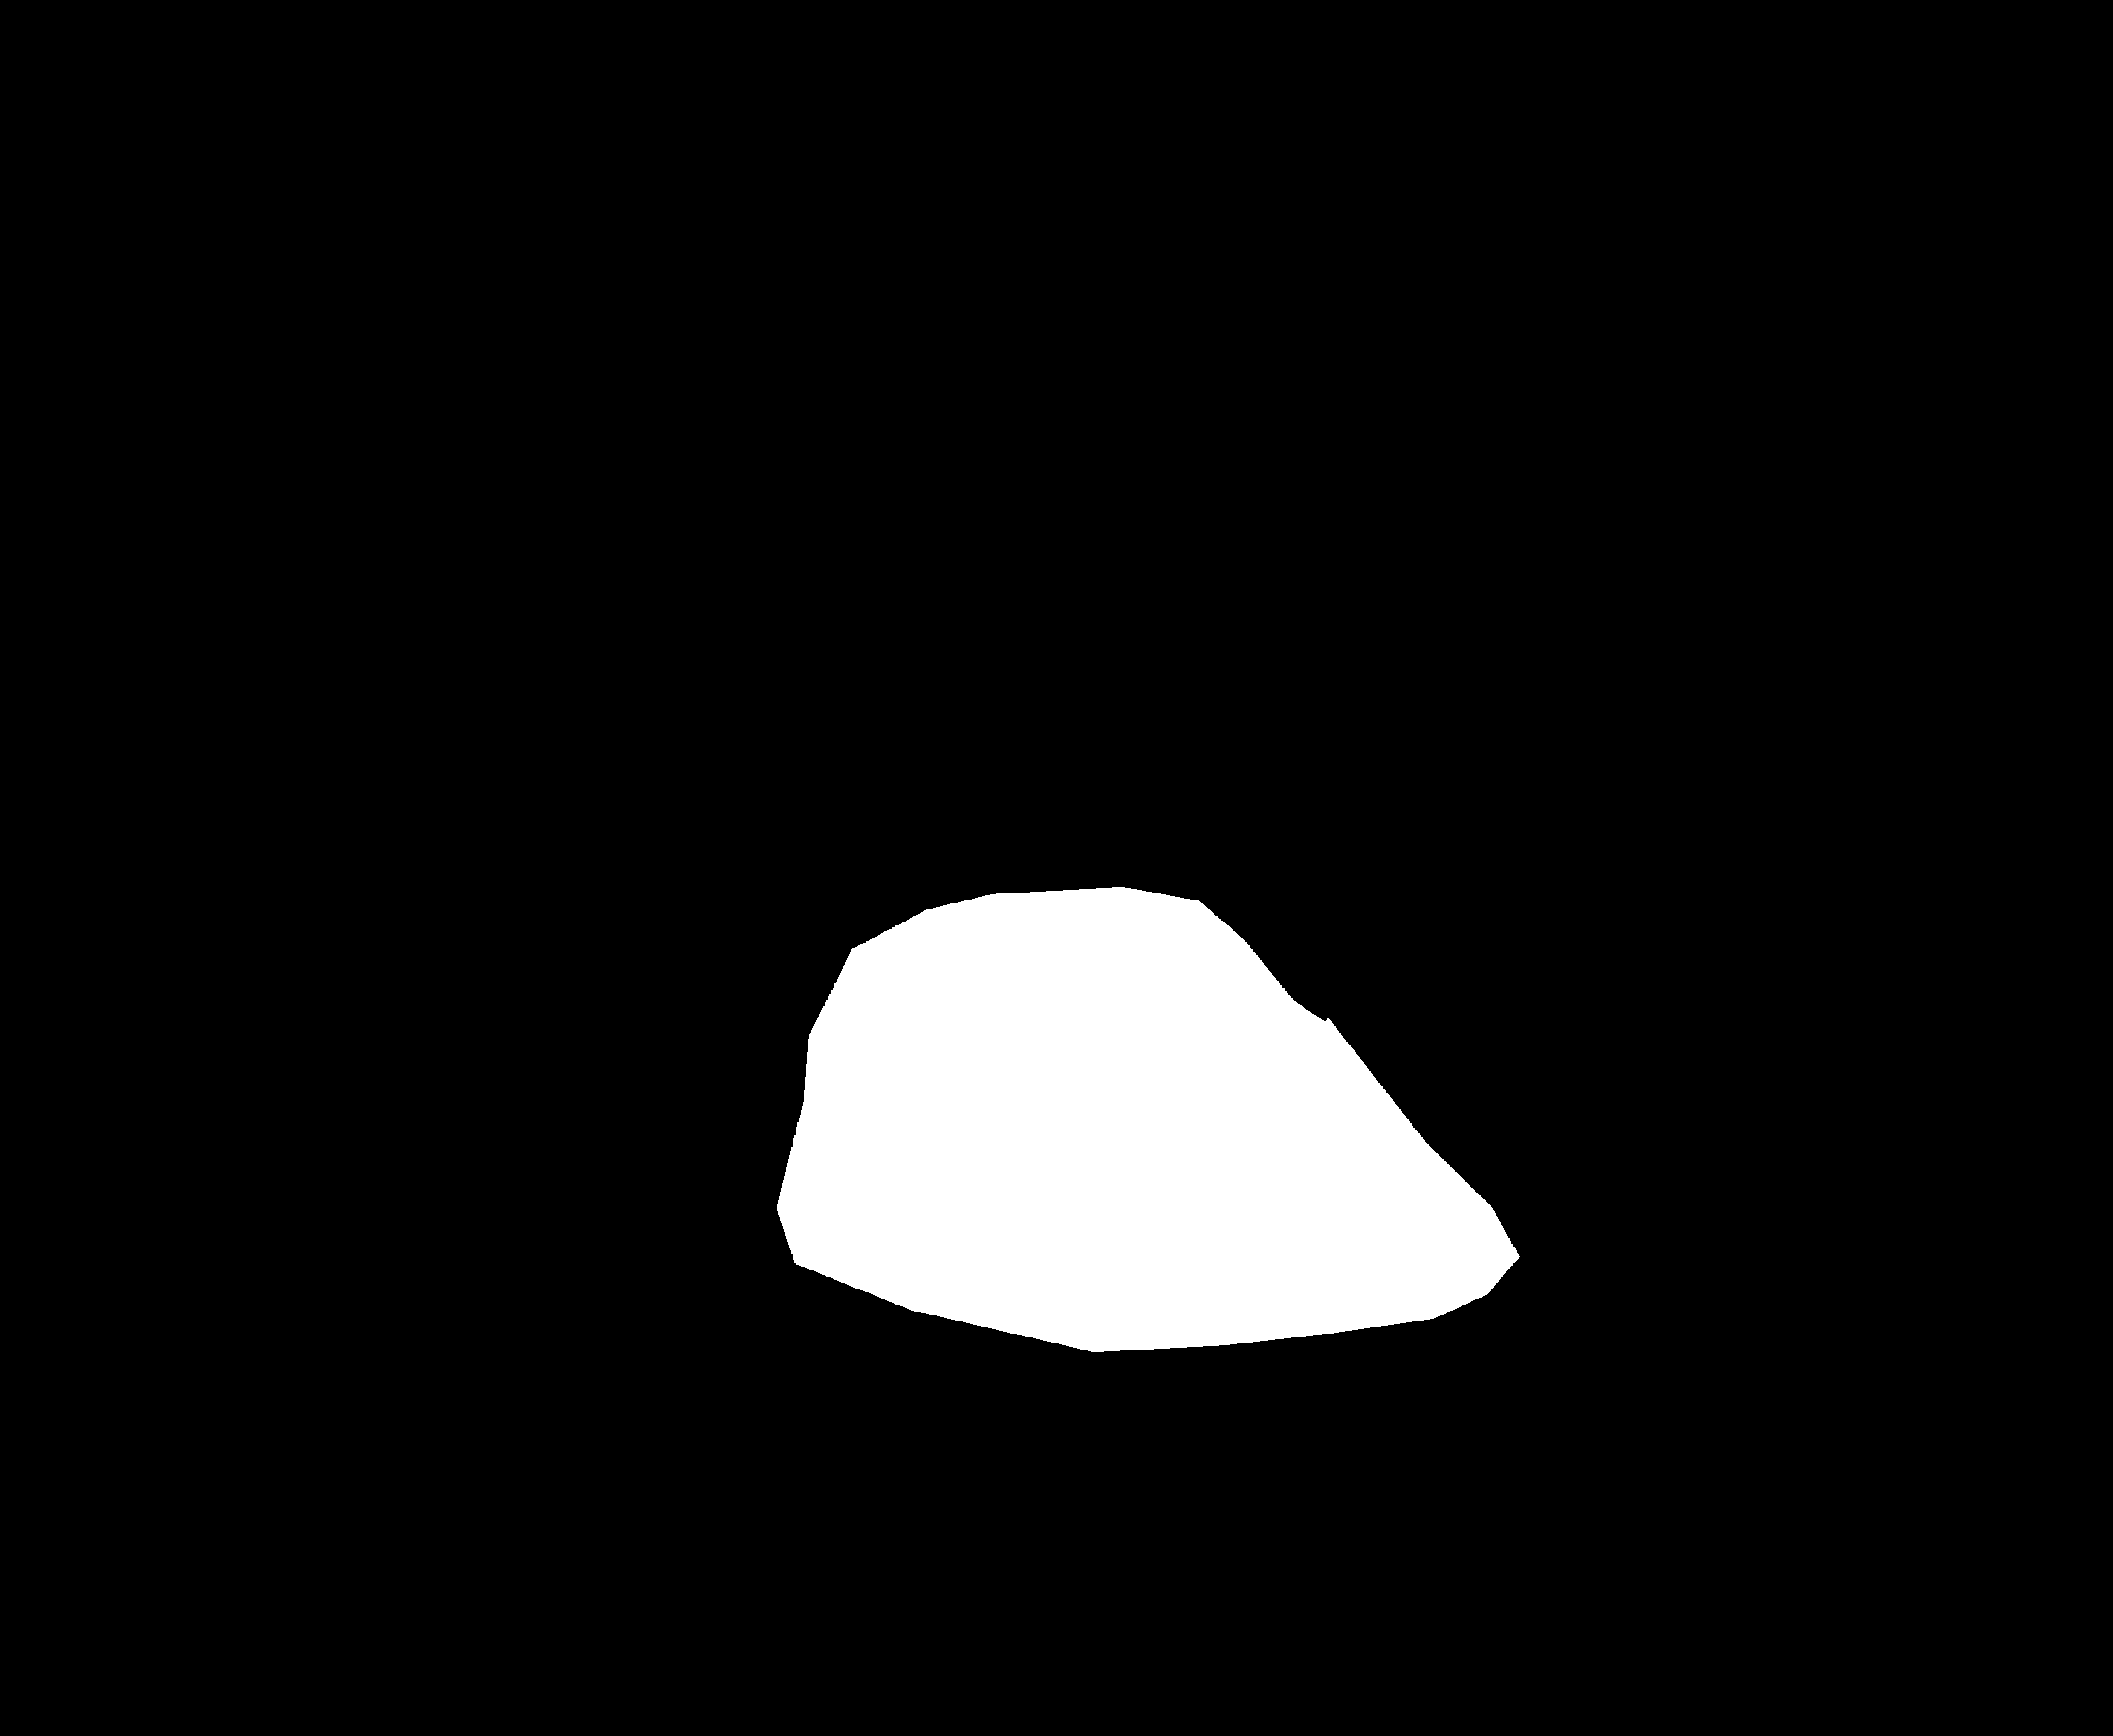heart: (784, 925, 1536, 1357)
left_lung: (316, 249, 979, 1496)
right_lung: (1106, 242, 1776, 1427)
